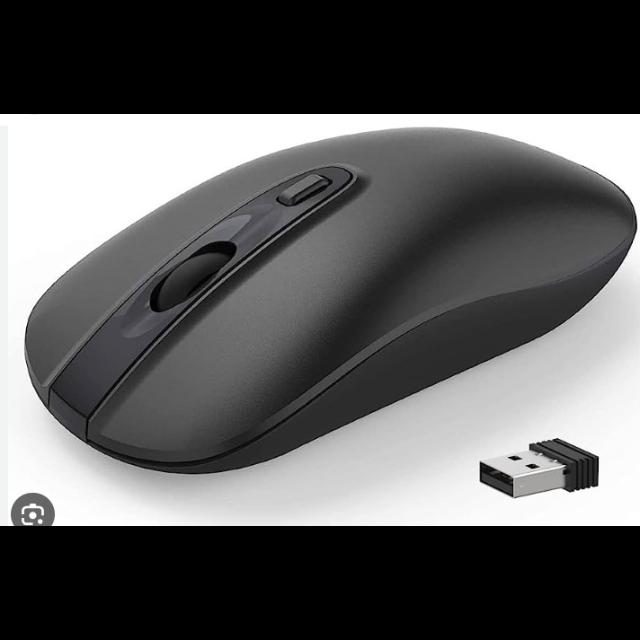Computer-Mouse: (23, 127, 640, 476)
